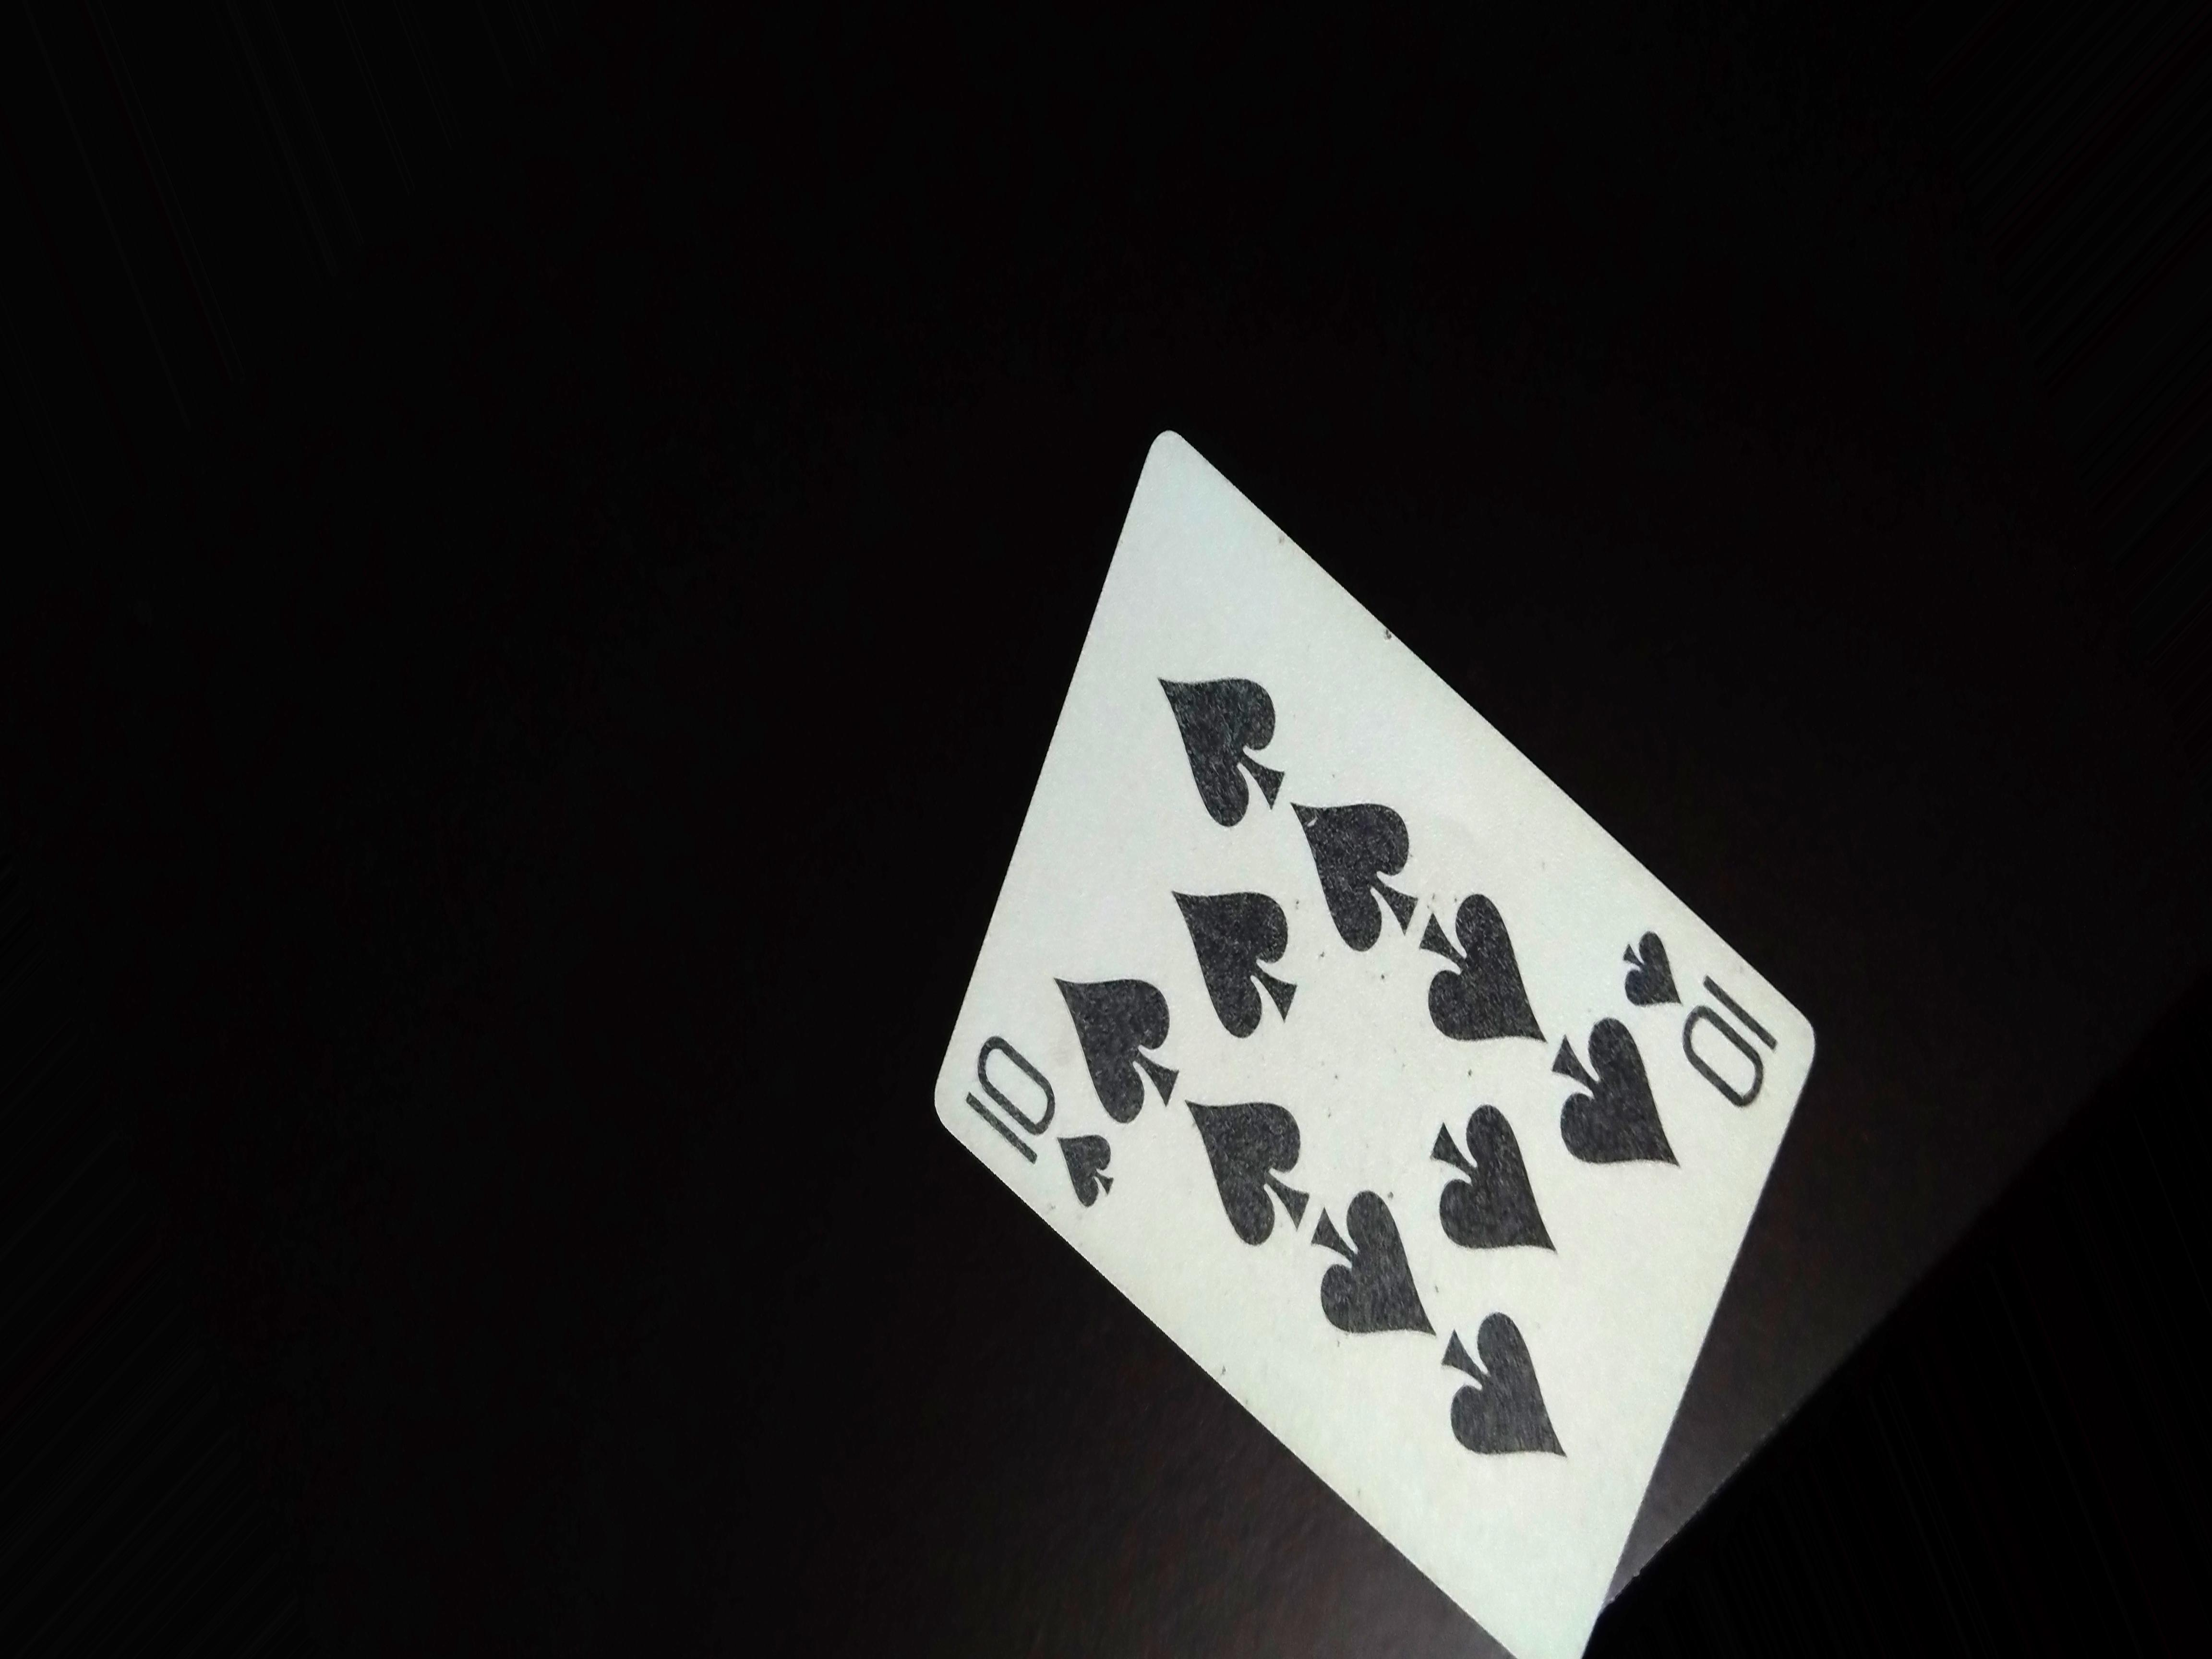10S: (1615, 922, 1780, 1107)
